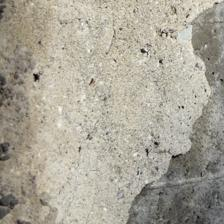Crack: (25, 0, 111, 98), (43, 79, 153, 144)
